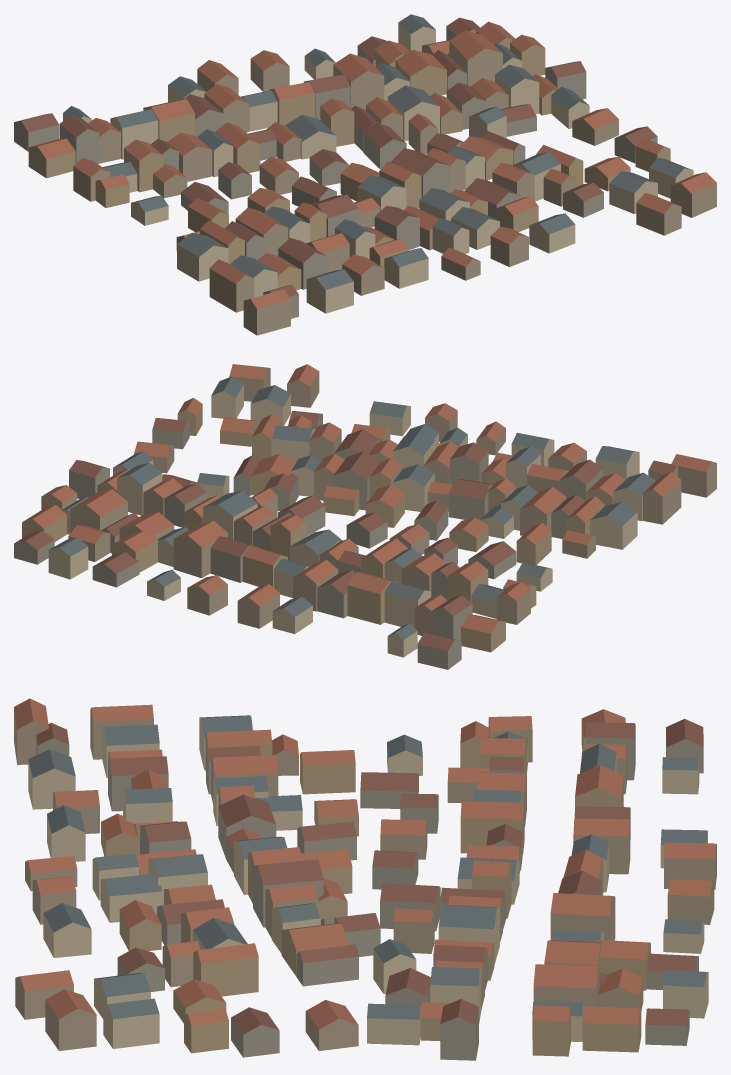
The picture shows the model from 3 angles, top to bottom: view 1: azimuth 30°, elevation 25°; view 2: azimuth 150°, elevation 25°; view 3: azimuth 270°, elevation 25°; orthographic projection. The views are drawn at different scales.
Visible parts, largest first — view 1: C_-1_1; view 2: C_-1_1; view 3: C_-1_1.
Boxes of the visible parts, <box> form: C_-1_1: <box>14,14,716,335</box>; C_-1_1: <box>14,364,716,669</box>; C_-1_1: <box>14,698,716,1060</box>.
Size of the model in its own units: 186 by 14.44 by 173.
